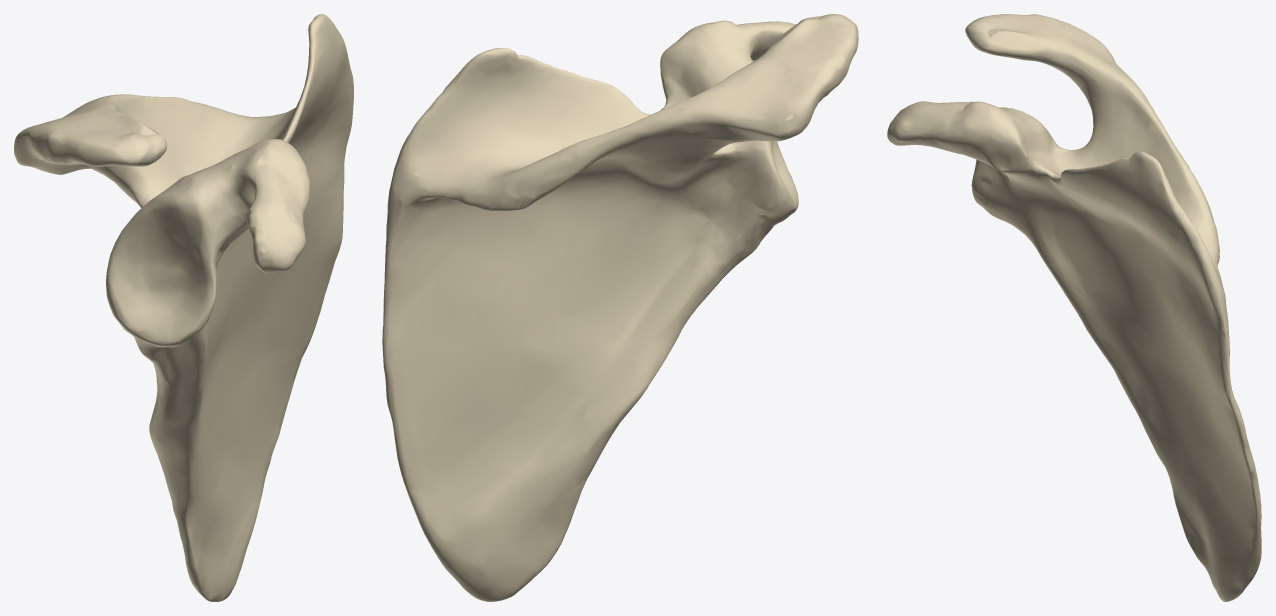
The model's file is esqueleto-scapula-r.glb.
3 renders of one model, left to right at view 1: azimuth 30°, elevation 25°; view 2: azimuth 150°, elevation 25°; view 3: azimuth 270°, elevation 25°, orthographic. The views are drawn at different scales.
Parts seen in each view (by area): view 1: Scapula.r; view 2: Scapula.r; view 3: Scapula.r.
Boxes of the visible parts, bbox=[...] form: Scapula.r: bbox=[14, 14, 353, 601]; Scapula.r: bbox=[382, 14, 858, 601]; Scapula.r: bbox=[887, 14, 1261, 601].
Size of the model in its own units: 0.113 by 0.1636 by 0.1141.
